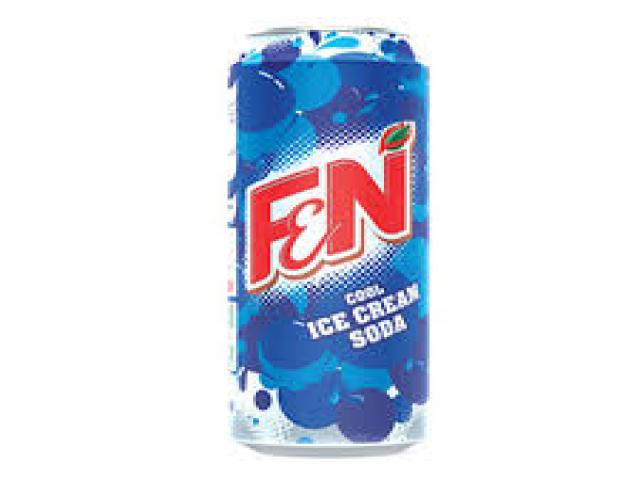Canned_drinks: (228, 25, 427, 454)
